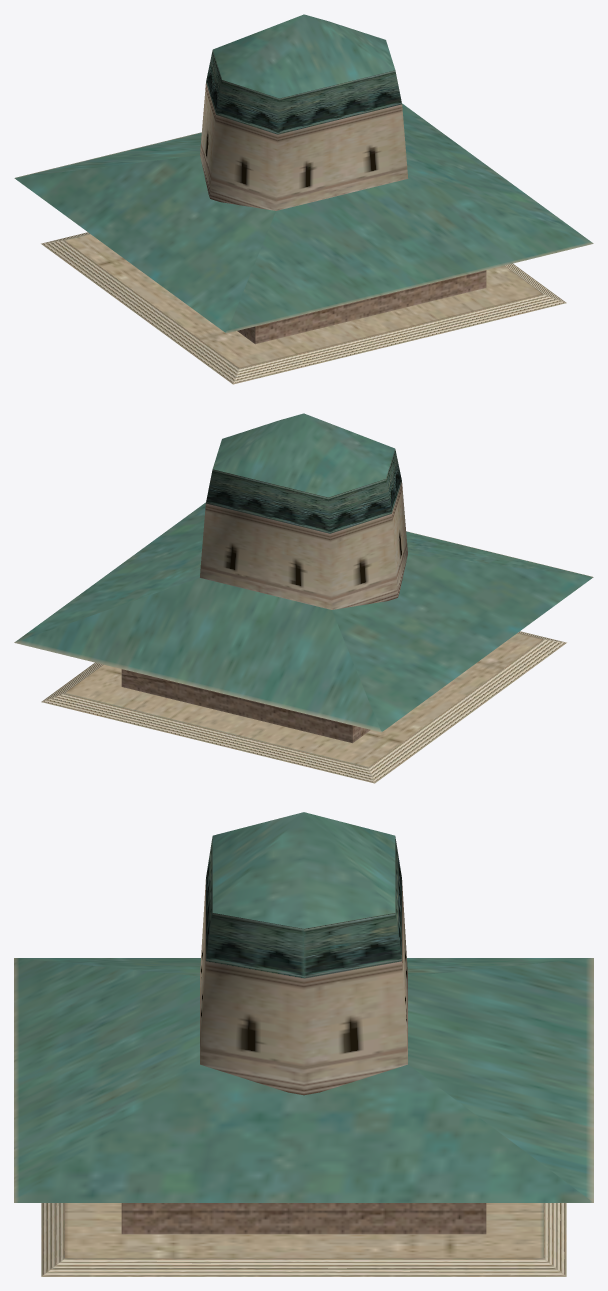
Rendered from thm_nboo_thed_imprv_building_s01_l3.fbx.
3 renders of one model, top to bottom at view 1: azimuth 30°, elevation 25°; view 2: azimuth 150°, elevation 25°; view 3: azimuth 270°, elevation 25°, orthographic. The views are drawn at different scales.
Visible parts, largest first — view 1: mesh_node; view 2: mesh_node; view 3: mesh_node.
Part boxes in pixels (x1,y1,x2,y2): mesh_node: (14,14,593,384); mesh_node: (14,413,593,783); mesh_node: (14,812,593,1276).
Bounding box in the file's own units: 47.12 × 31.72 × 47.14.
